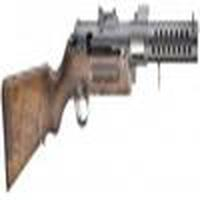gun: (1, 12, 196, 177)
